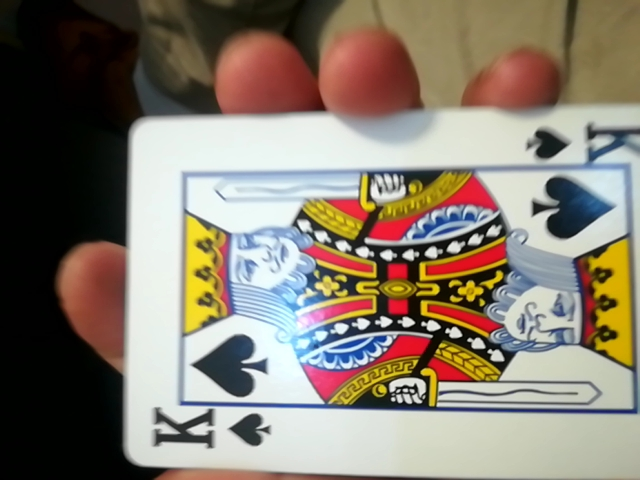ht k: (107, 116, 638, 480)
